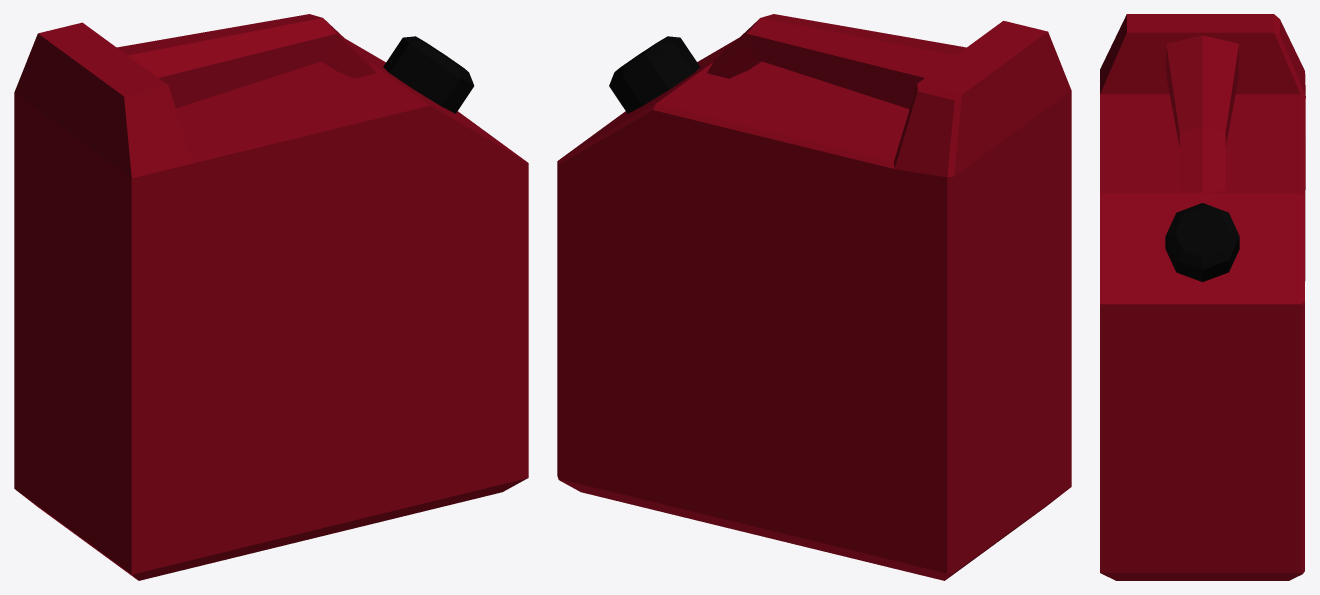
The model's file is JerrycanLarge.fbx.
The picture shows the model from 3 angles, left to right: view 1: azimuth 30°, elevation 25°; view 2: azimuth 150°, elevation 25°; view 3: azimuth 270°, elevation 25°; orthographic projection. The views are drawn at different scales.
Visible parts, largest first — view 1: Jerrycan_Large; view 2: Jerrycan_Large; view 3: Jerrycan_Large.
Part boxes in pixels (box(x1,y1,x2,y2)): Jerrycan_Large: box(14, 14, 528, 580); Jerrycan_Large: box(557, 14, 1071, 580); Jerrycan_Large: box(1100, 14, 1305, 580).
Size of the model in its own units: 34.38 by 39.91 by 18.07.
